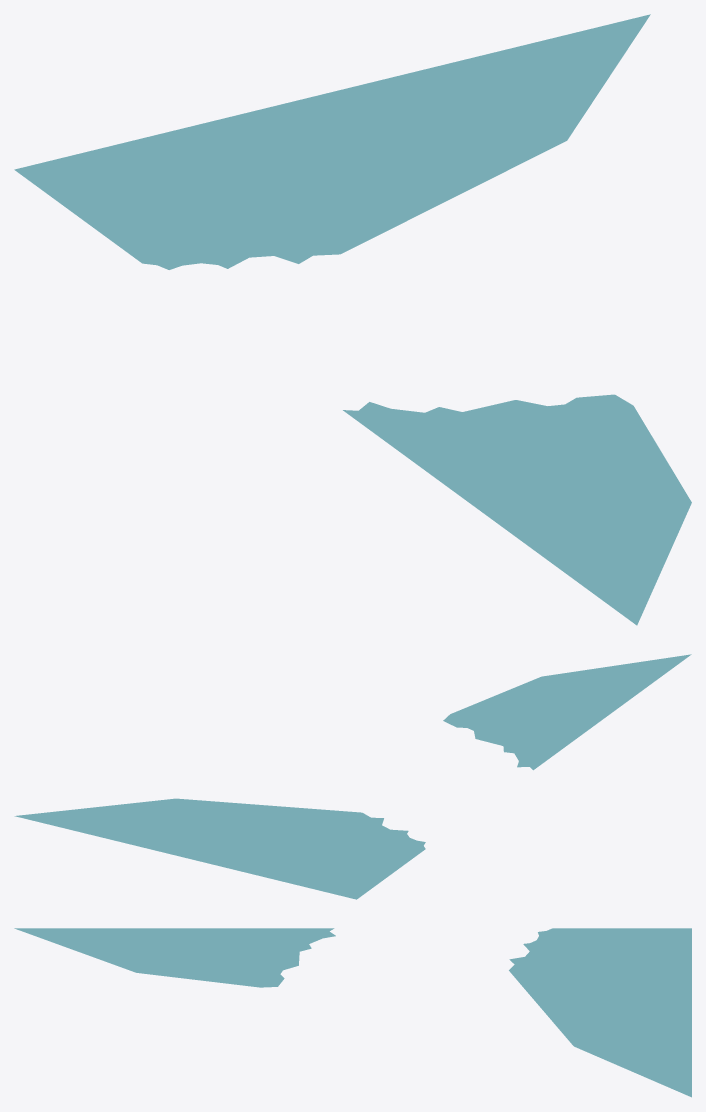
3 renders of one model, top to bottom at view 1: azimuth 30°, elevation 25°; view 2: azimuth 150°, elevation 25°; view 3: azimuth 270°, elevation 25°, orthographic. The views are drawn at different scales.
Parts seen in each view (by area): view 1: city; view 2: city; view 3: city.
Part boxes in pixels (left/top/right/bottom): city: left=14, top=14, right=691, bottom=625; city: left=14, top=654, right=691, bottom=899; city: left=14, top=928, right=691, bottom=1097.
Size of the model in its own units: 50.91 by 0 by 86.25.
